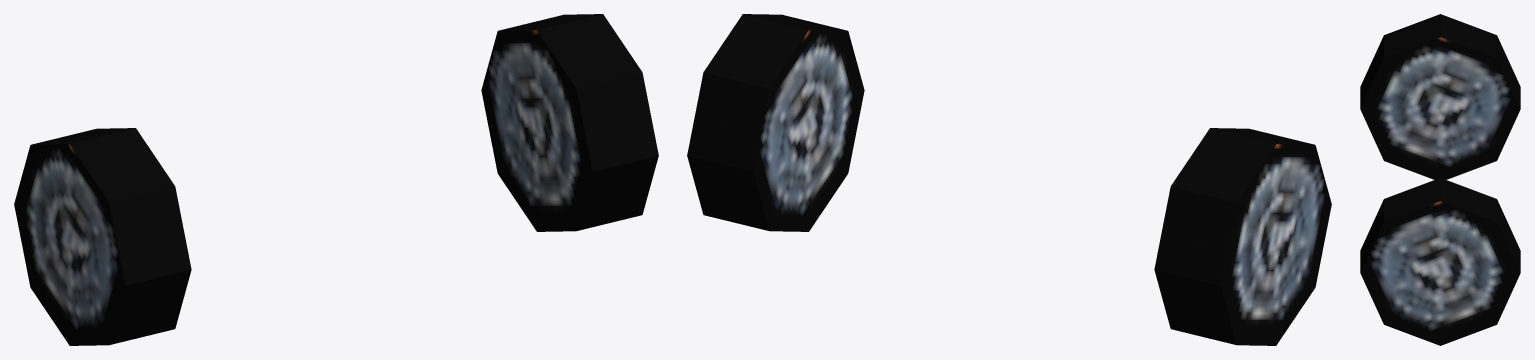
File: charger_69_wheels_r.obj
3 renders of one model, left to right at view 1: azimuth 30°, elevation 25°; view 2: azimuth 150°, elevation 25°; view 3: azimuth 270°, elevation 25°, orthographic. The views are drawn at different scales.
Visible parts, largest first — view 1: charger_69_wheels_r; view 2: charger_69_wheels_r; view 3: charger_69_wheels_r.
Boxes of the visible parts, <box> form: charger_69_wheels_r: <box>14,14,658,345</box>; charger_69_wheels_r: <box>687,14,1331,345</box>; charger_69_wheels_r: <box>1360,14,1520,345</box>.
Bounding box in the file's own units: 2.01 × 0.7259 × 0.7259.
